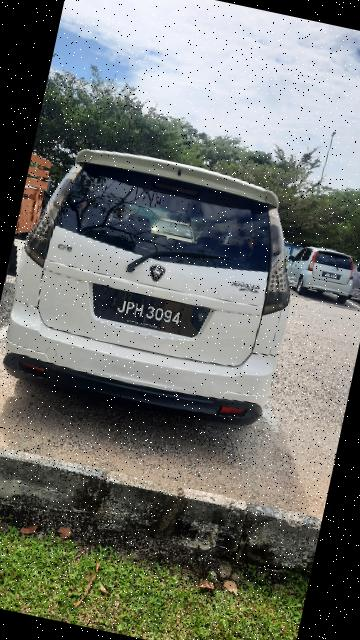License_Plate: (81, 282, 217, 345)
car: (1, 135, 318, 442)
